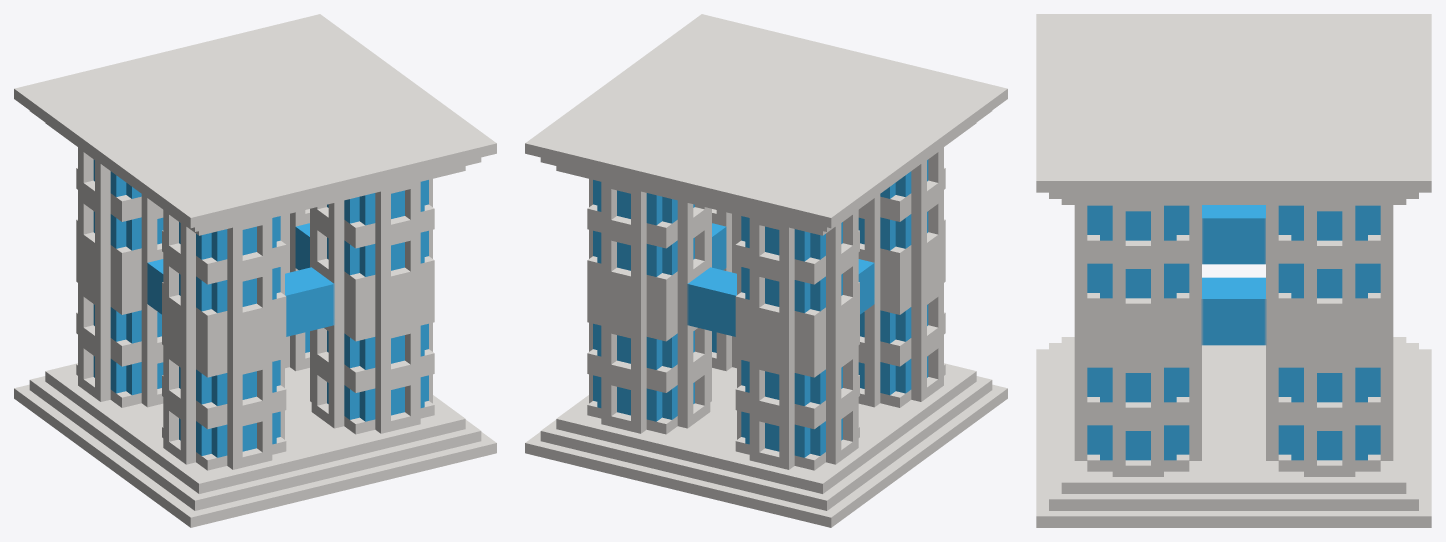
File: TwentySixModel.fbx
3 renders of one model, left to right at view 1: azimuth 30°, elevation 25°; view 2: azimuth 150°, elevation 25°; view 3: azimuth 270°, elevation 25°, orthographic. The views are drawn at different scales.
Visible parts, largest first — view 1: Matrix_1; view 2: Matrix_1; view 3: Matrix_1.
Part boxes in pixels (x1=…): Matrix_1: x1=14, y1=14, x2=496, y2=527; Matrix_1: x1=525, y1=14, x2=1007, y2=527; Matrix_1: x1=1036, y1=14, x2=1431, y2=527.
Size of the model in its own units: 31 by 30 by 31.
Materials: 1 (1 with a texture image).
